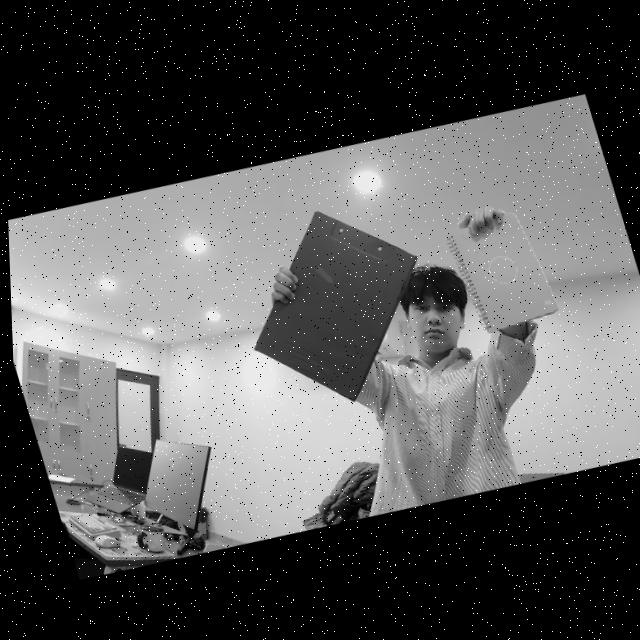document: (448, 211, 559, 332)
face: (402, 265, 485, 370)
